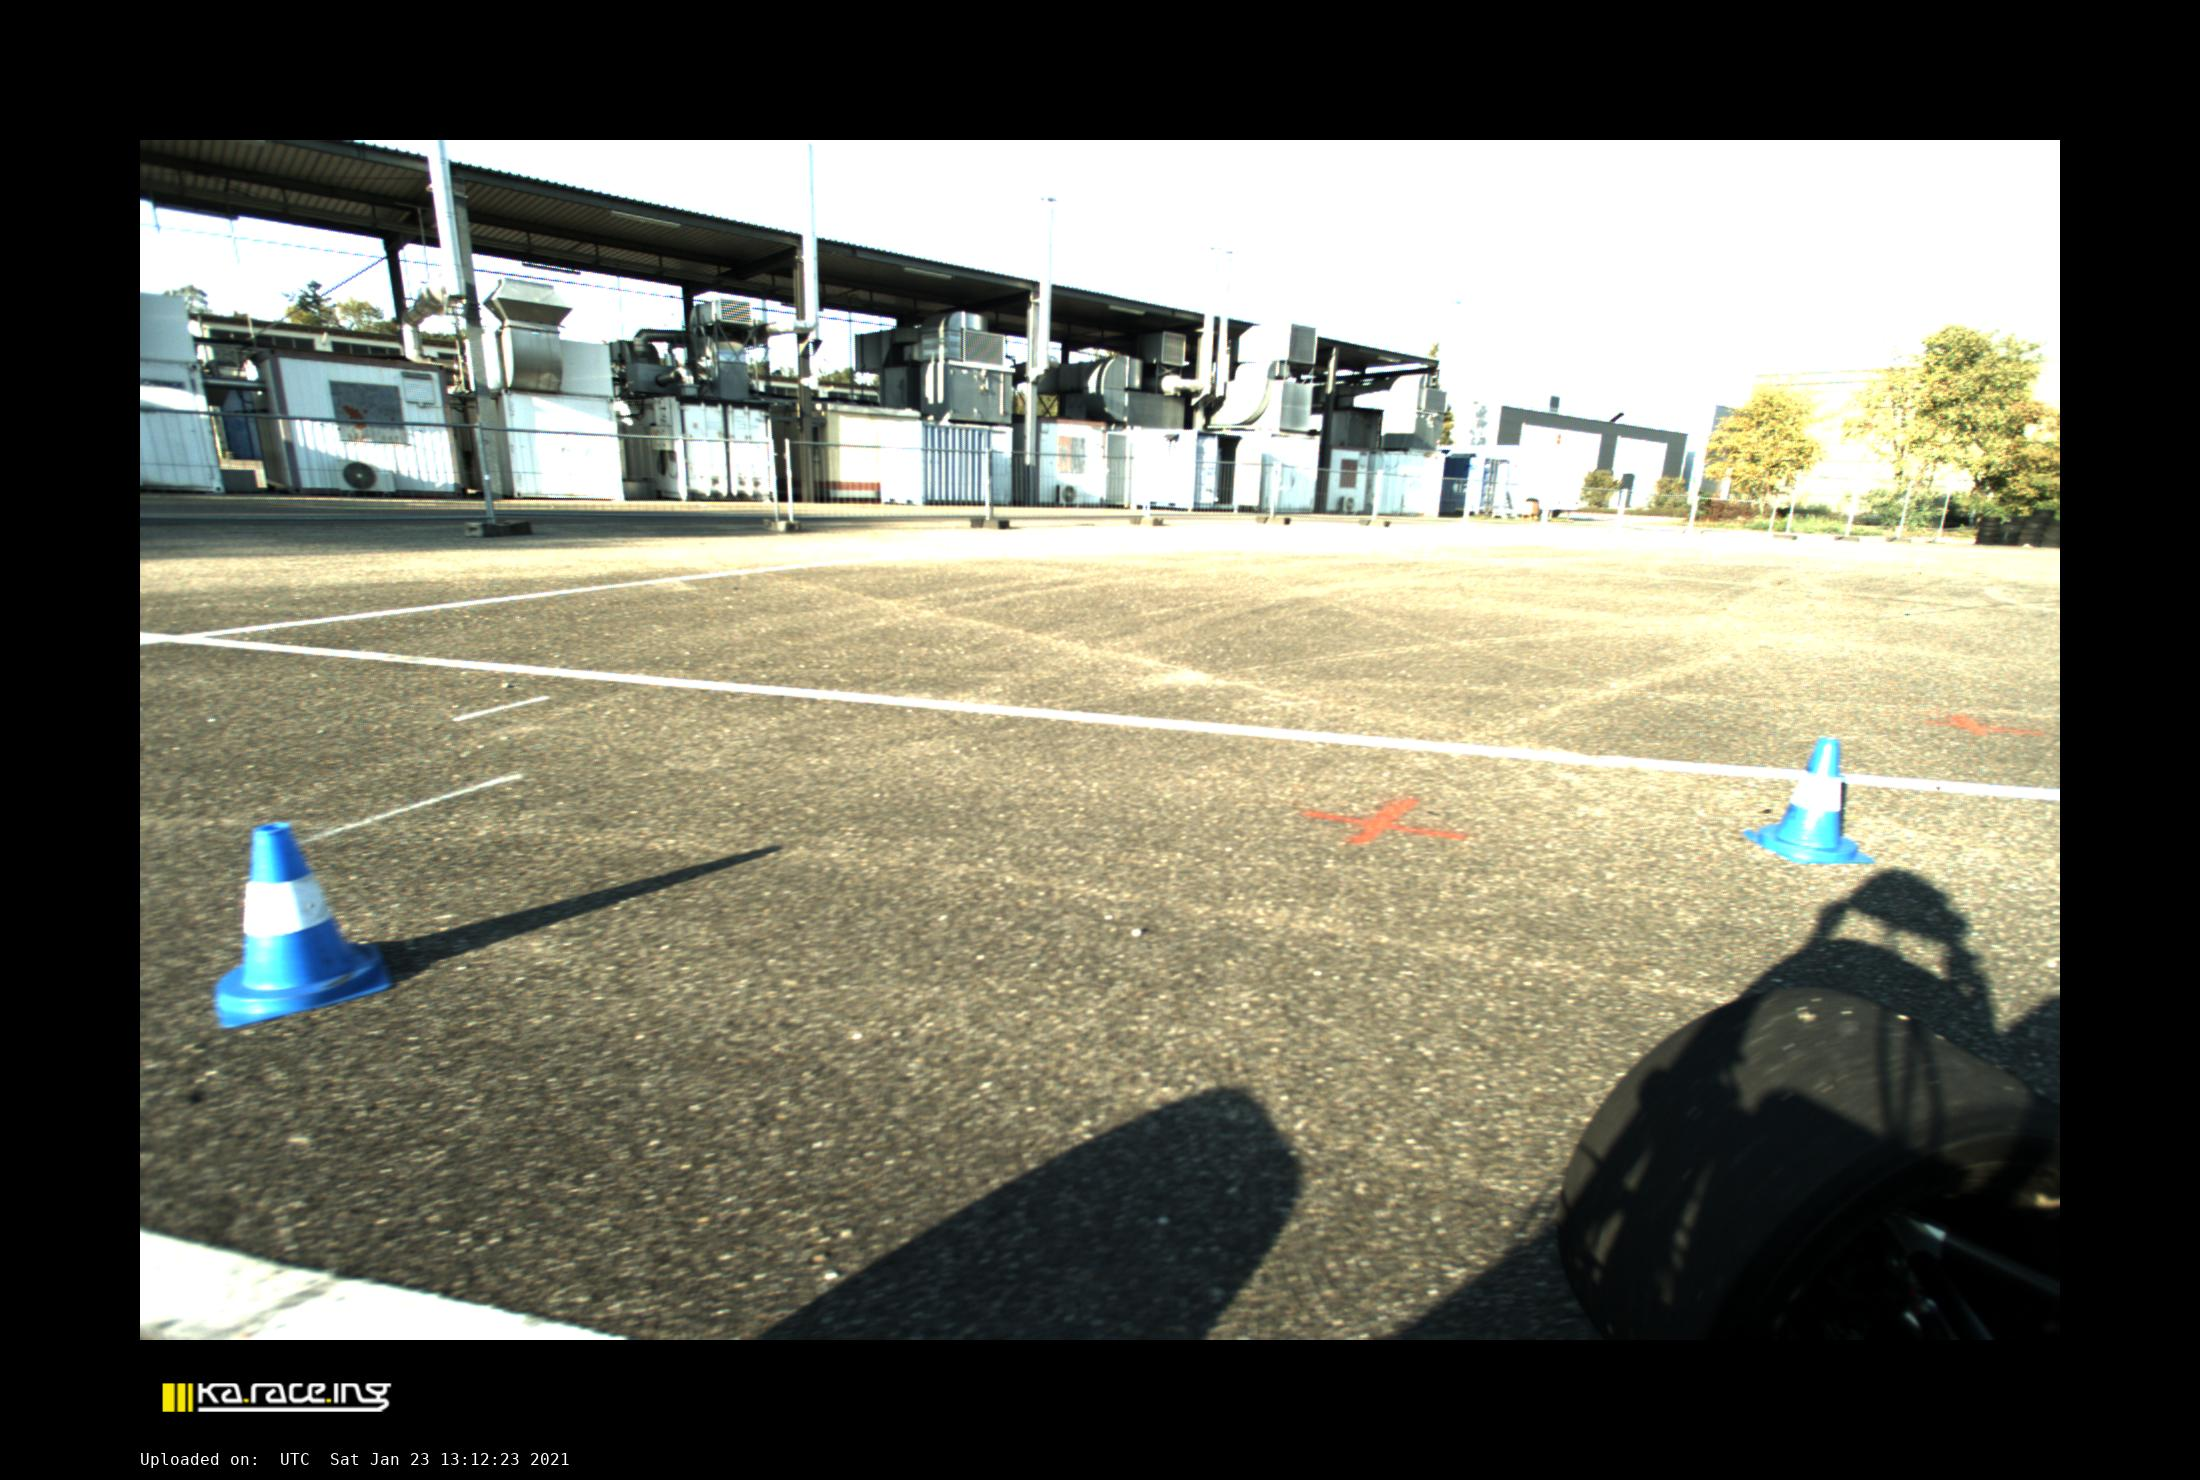blue_cone: (215, 824, 390, 1026), (1742, 738, 1875, 862)
